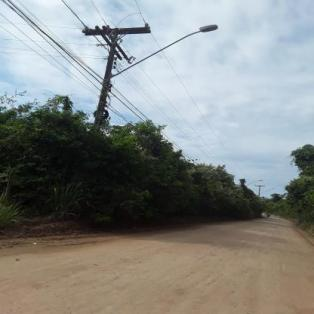Poste: (80, 26, 125, 136)
